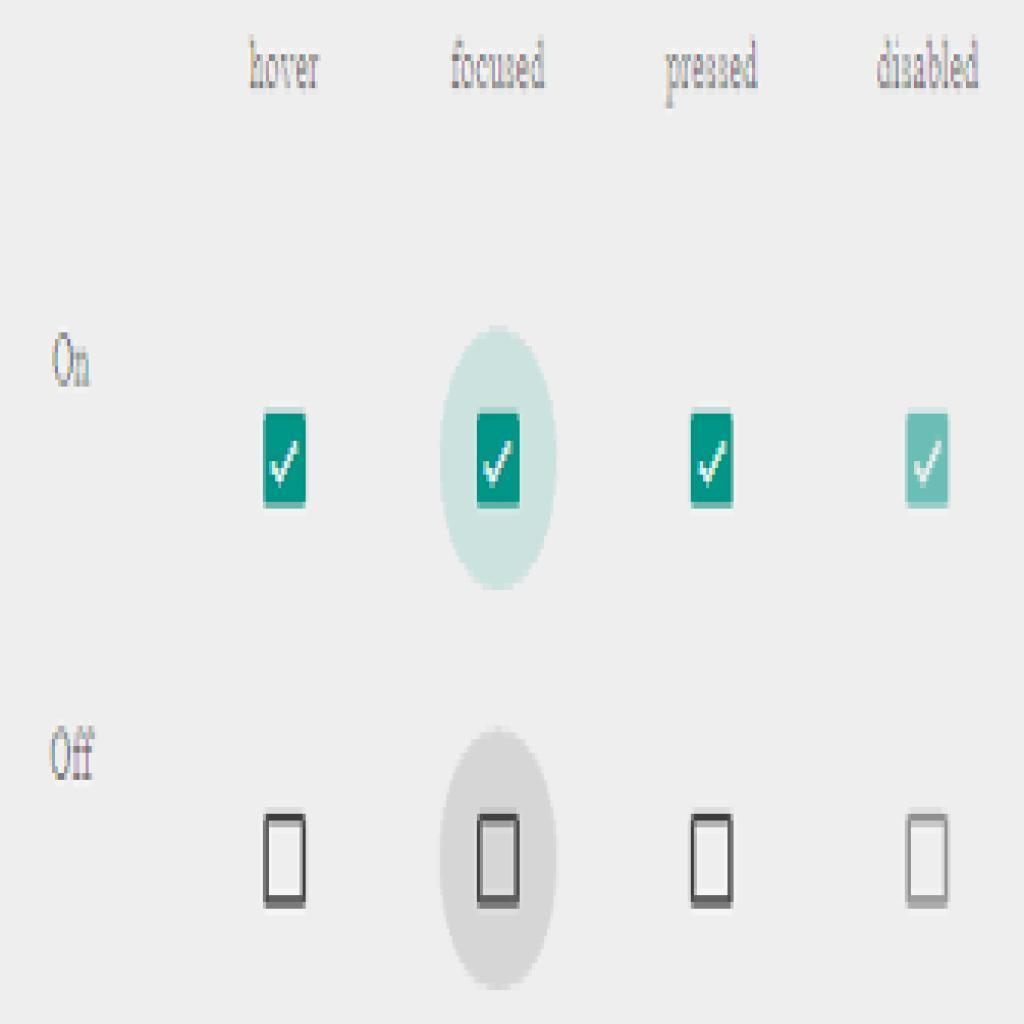checkbox: (904, 413, 952, 508), (476, 413, 523, 506), (263, 412, 308, 509), (691, 415, 736, 510), (906, 815, 952, 907), (692, 813, 734, 911), (477, 818, 523, 906), (266, 815, 308, 910)
